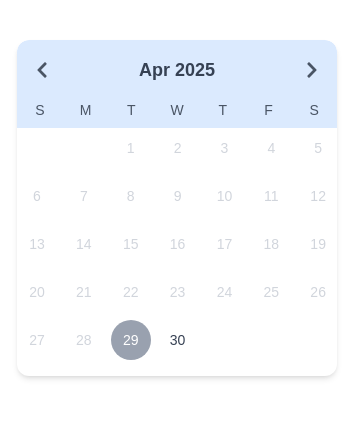
Scenario: Calendar Component › Users should be able to move to the previous and next months
Step 1. Click the button named "Next Month" → (312, 70), box [303, 61, 321, 79]
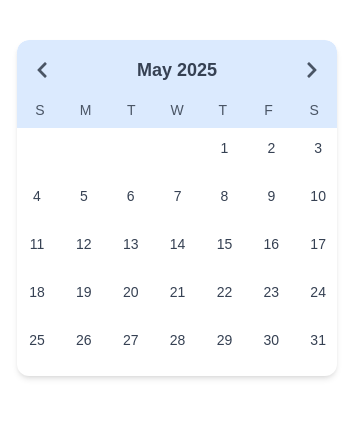
Expected: the text "May 2025" is shown, [137, 56, 217, 84]
Step 2. Click the button named "Previous Month" → (42, 70), box [33, 61, 51, 79]
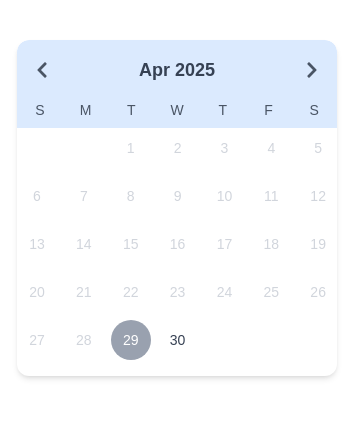
Step 3. Click the button named "Previous Month" → (42, 70), box [33, 61, 51, 79]
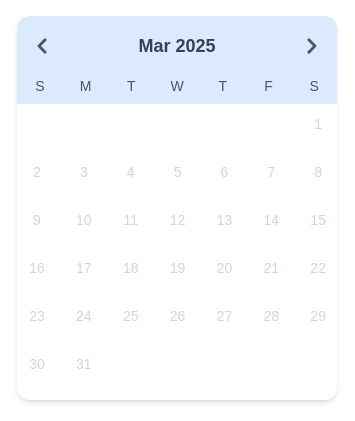
Expected: the text "Mar 2025" is shown, [138, 32, 216, 60]
